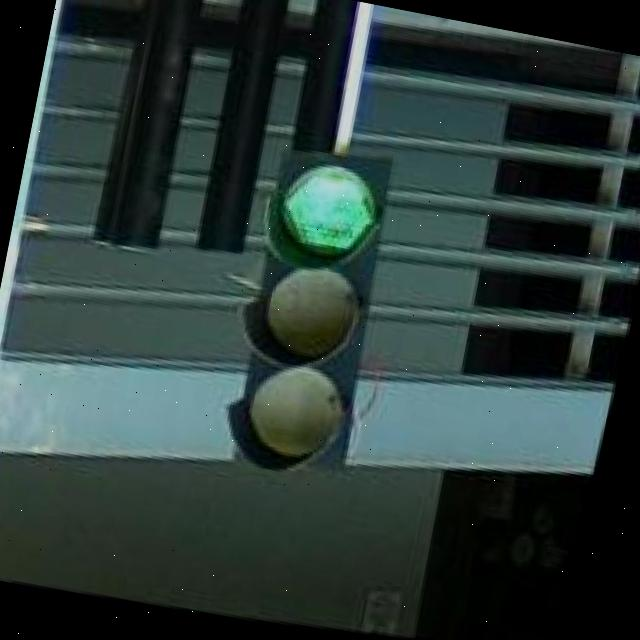green_light: (206, 138, 422, 492)
